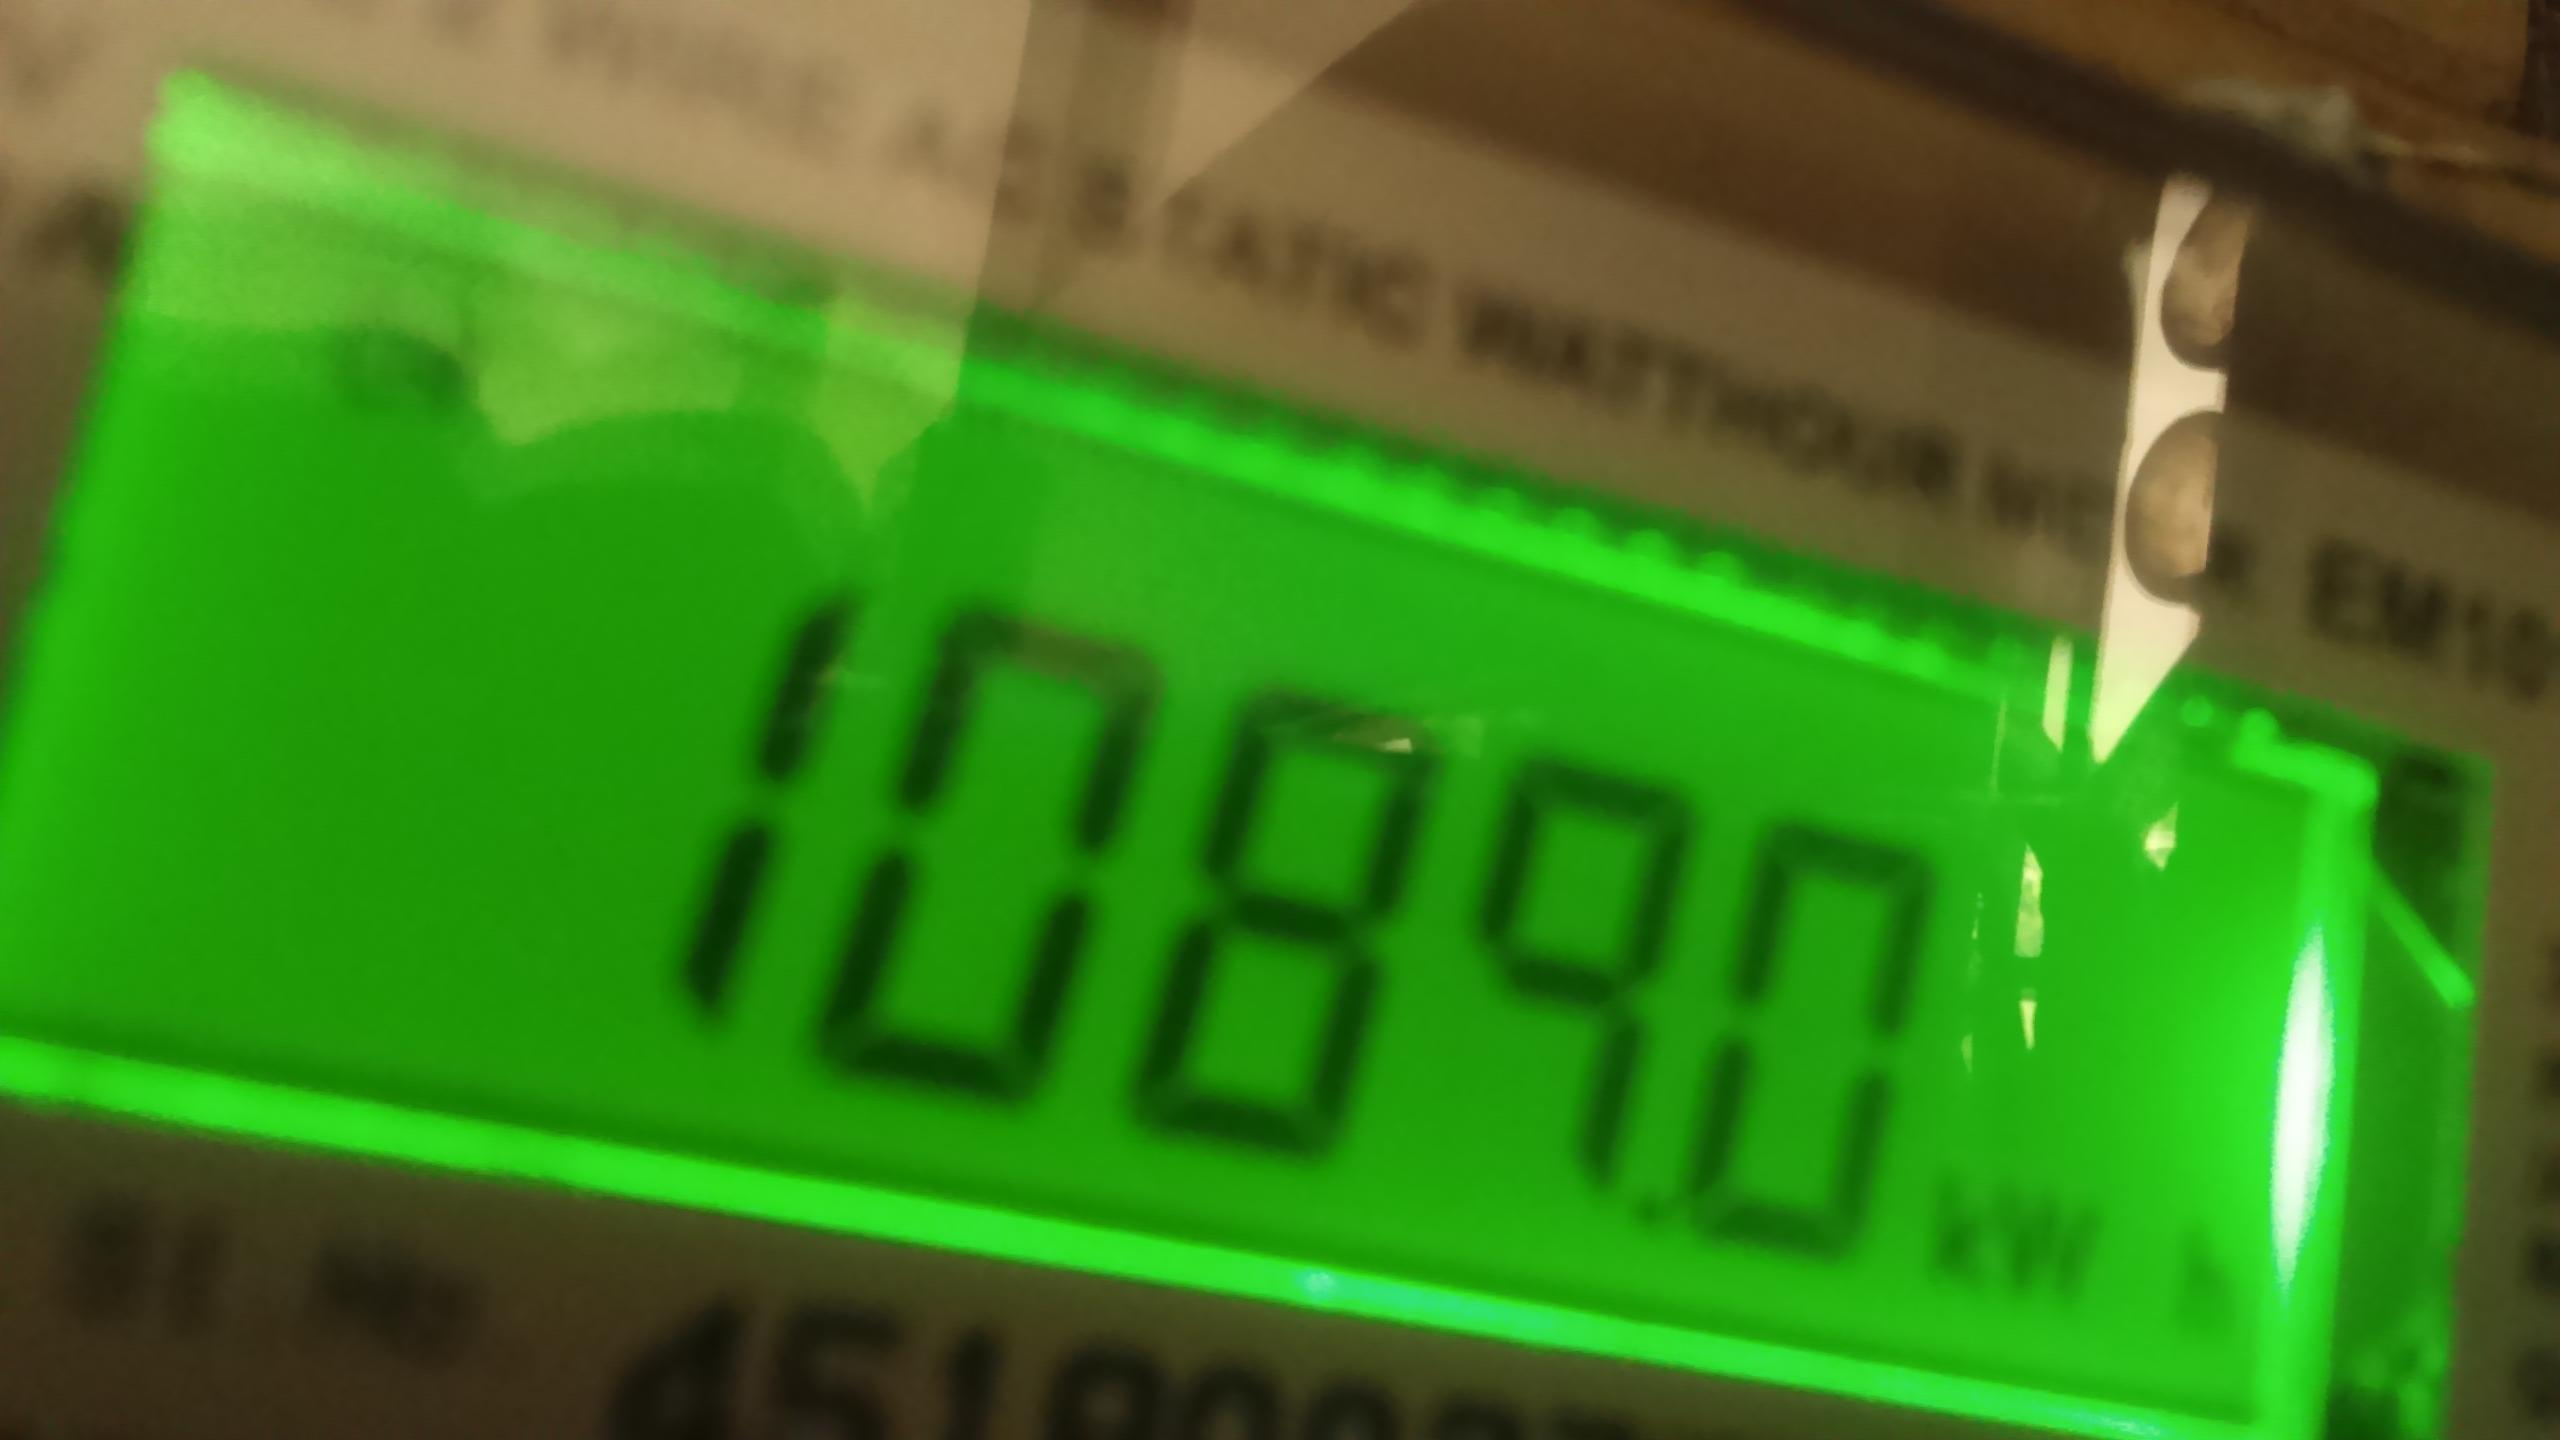.: (1908, 1159, 2267, 1351)
0: (1607, 1138, 1704, 1272)
1: (828, 623, 1187, 1076), (1667, 788, 1952, 1256)
2: (621, 553, 892, 1046)
9: (1118, 658, 1492, 1156)
object: (1414, 723, 1742, 1166)
